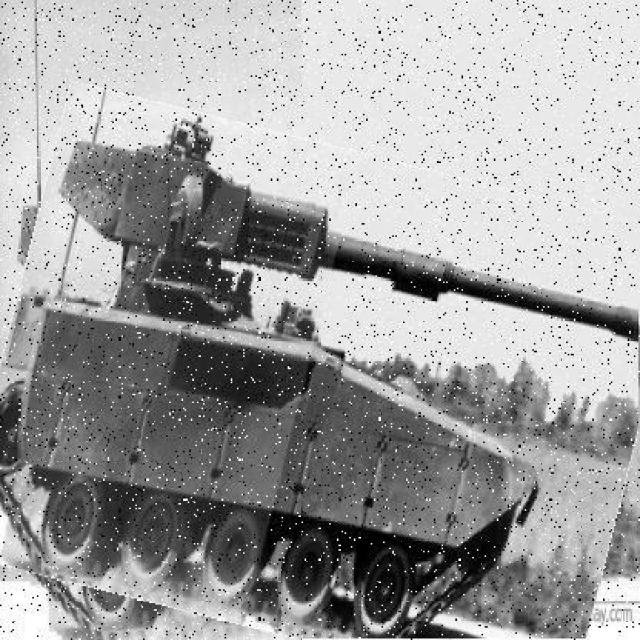Tank: (1, 116, 639, 639)
